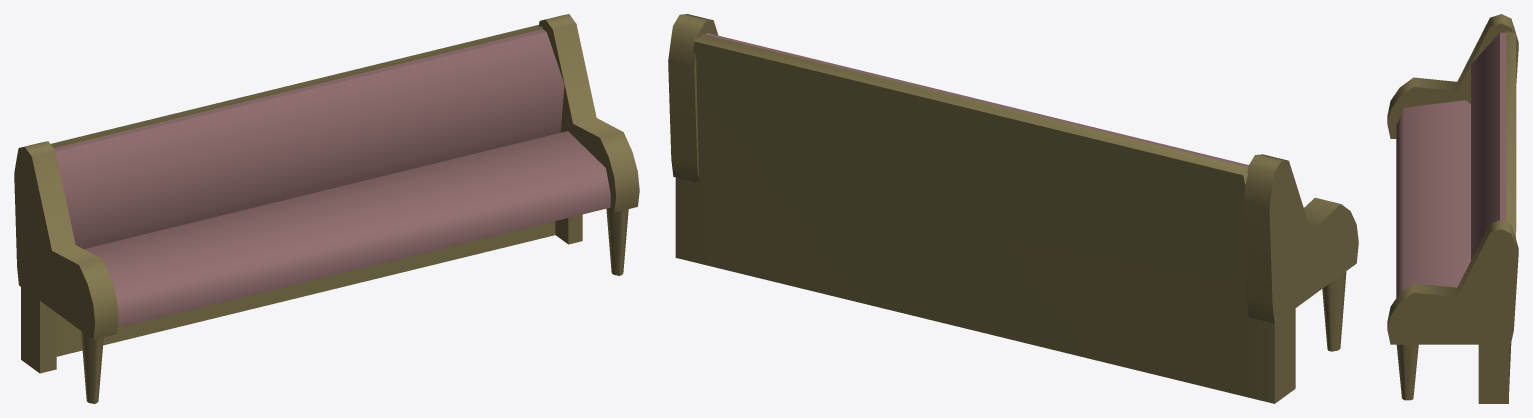
The model's file is POTNChurchPew.fbx.
3 views of the same model, side by side, from view 1: azimuth 30°, elevation 25°; view 2: azimuth 150°, elevation 25°; view 3: azimuth 270°, elevation 25° (orthographic). The views are drawn at different scales.
Visible parts, largest first — view 1: PewBack, PewSeat, pCube1, PewSide1, PewSide2, Leg1, Leg2; view 2: pCube1, PewSide1, PewSide2, PewBack, Leg1; view 3: PewSeat, PewSide2, PewBack, pCube1, PewSide1, Leg2.
Part boxes in pixels (x1,y1,x2,y2): PewBack: [54, 29, 564, 248]; PewSeat: [84, 131, 610, 327]; pCube1: [21, 25, 582, 373]; PewSide1: [14, 141, 118, 339]; PewSide2: [538, 14, 639, 212]; Leg1: [81, 331, 103, 403]; Leg2: [606, 208, 628, 275]; pCube1: [675, 34, 1295, 403]; PewSide1: [1243, 154, 1358, 323]; PewSide2: [668, 14, 718, 182]; PewBack: [698, 33, 1248, 166]; Leg1: [1322, 271, 1346, 351]; PewSeat: [1396, 100, 1470, 297]; PewSide2: [1387, 220, 1518, 344]; PewBack: [1471, 32, 1506, 259]; pCube1: [1478, 31, 1516, 403]; PewSide1: [1387, 14, 1518, 138]; Leg2: [1396, 344, 1418, 400].
Bounding box in the file's own units: 9.27 × 3.52 × 2.39.
